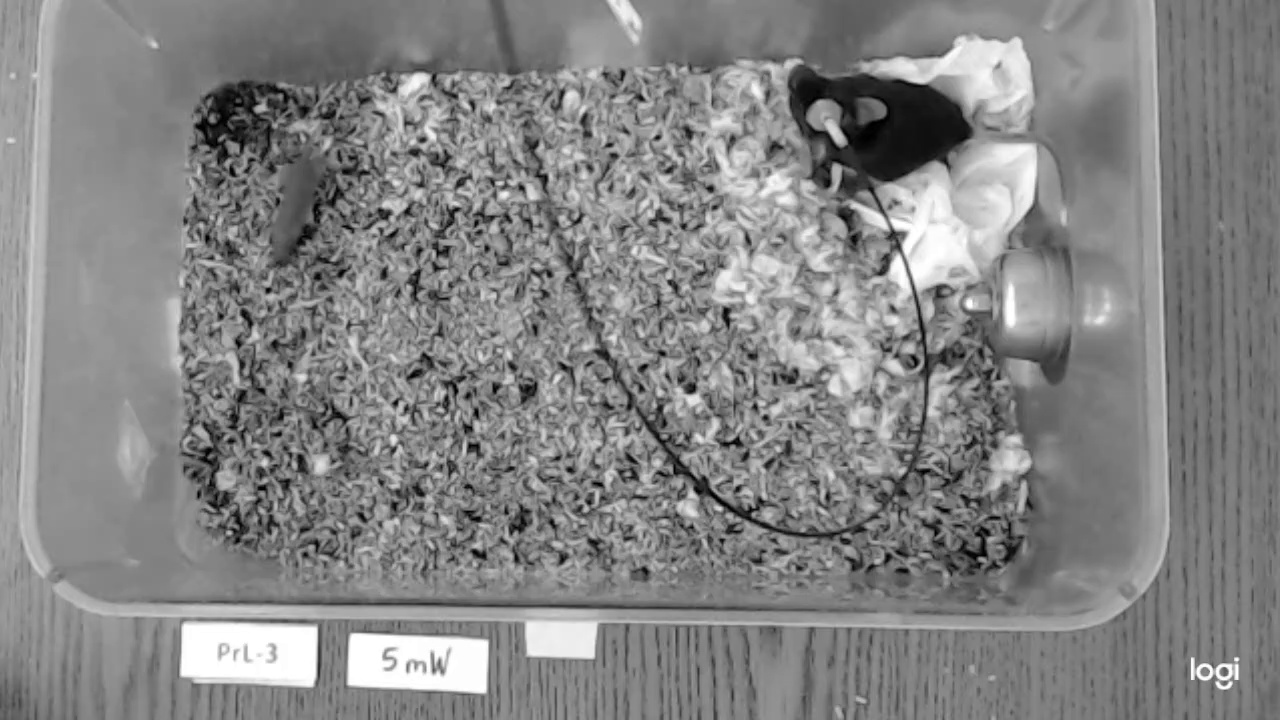child-mice: (266, 152, 324, 258)
